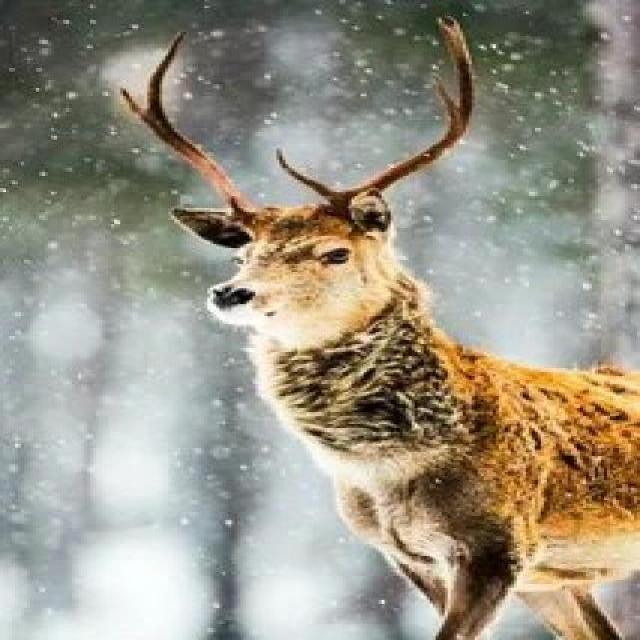deer: (71, 0, 640, 563)
